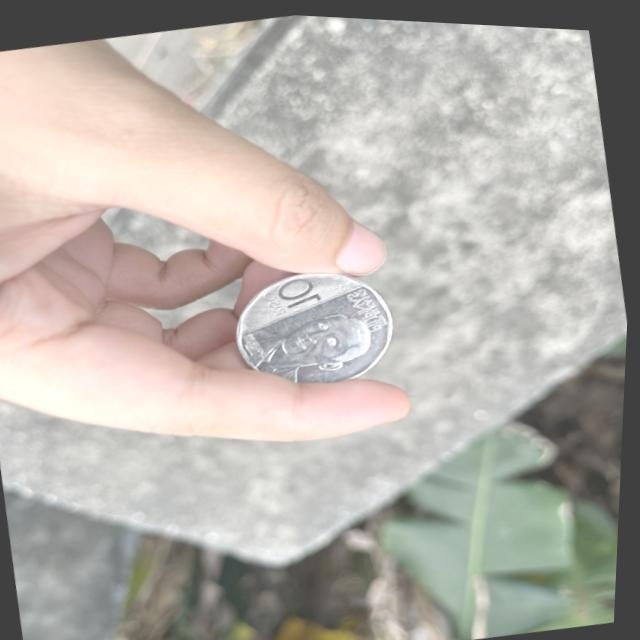10_New_Front: (260, 270, 330, 321)
